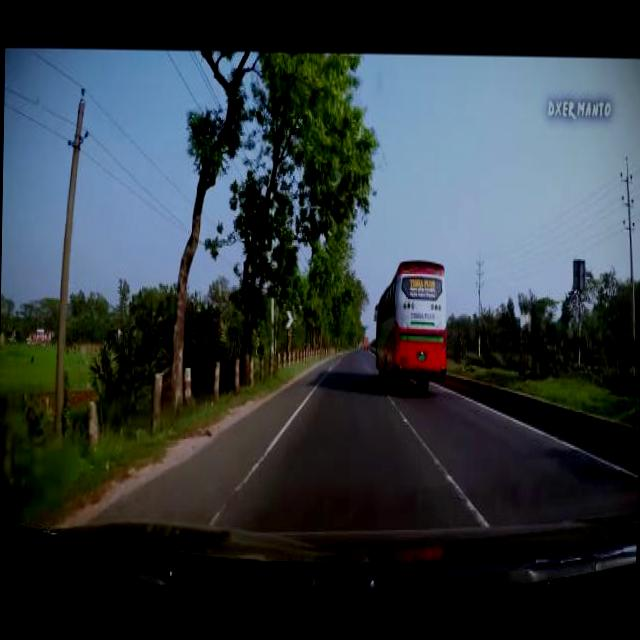bus: (373, 258, 447, 380)
